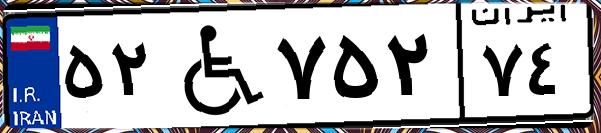2: (385, 28, 445, 110), (110, 28, 158, 98)
4: (525, 38, 570, 115)
5: (330, 28, 385, 110), (57, 26, 110, 100)
7: (270, 28, 330, 110), (475, 38, 525, 113)
ژ (معلولین و جانبازان): (158, 12, 270, 120)
